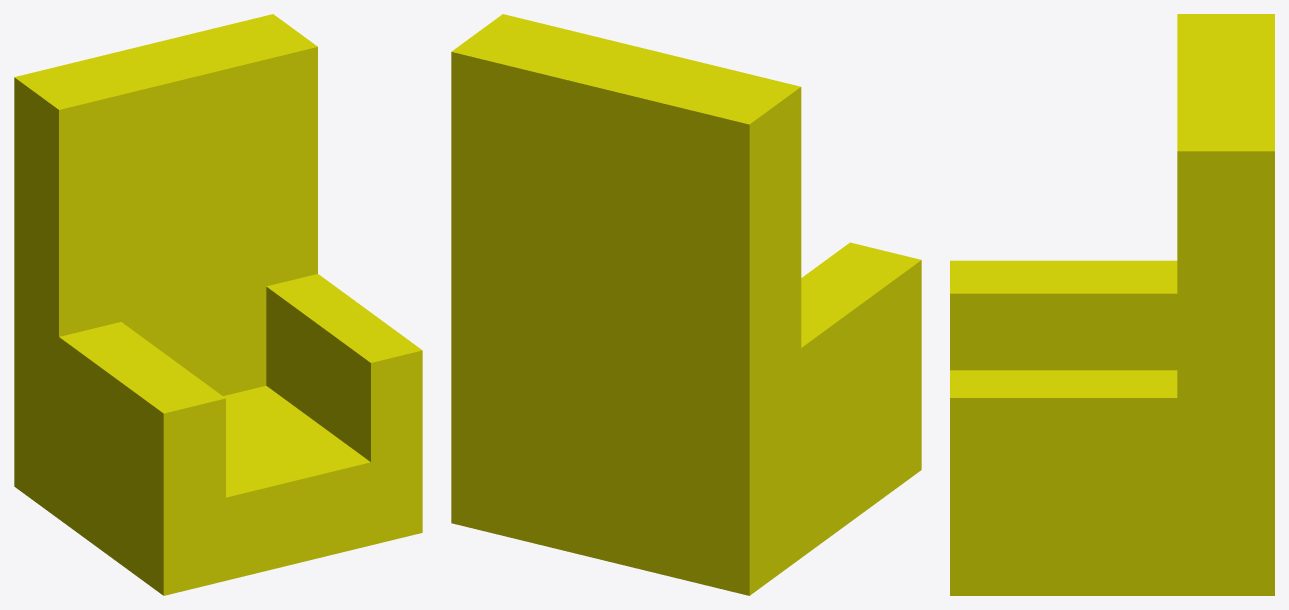
3 renders of one model, left to right at view 1: azimuth 30°, elevation 25°; view 2: azimuth 150°, elevation 25°; view 3: azimuth 270°, elevation 25°, orthographic. The views are drawn at different scales.
Visible parts, largest first — view 1: ghe; view 2: ghe; view 3: ghe.
Part boxes in pixels (box(x1,y1,x2,y2)): ghe: box(14, 14, 422, 595); ghe: box(451, 14, 921, 595); ghe: box(950, 14, 1274, 595).
Bounding box in the file's own units: 3.31 × 5.01 × 3.31.
Materials: 1 (1 with a texture image).
